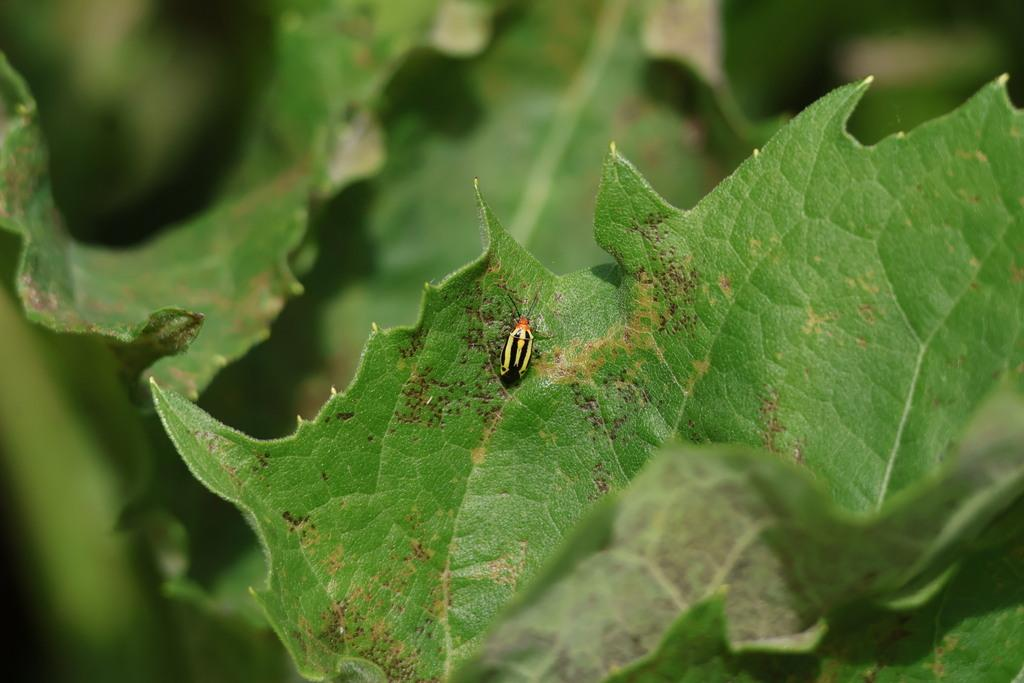plant_bugs: (475, 277, 555, 406)
